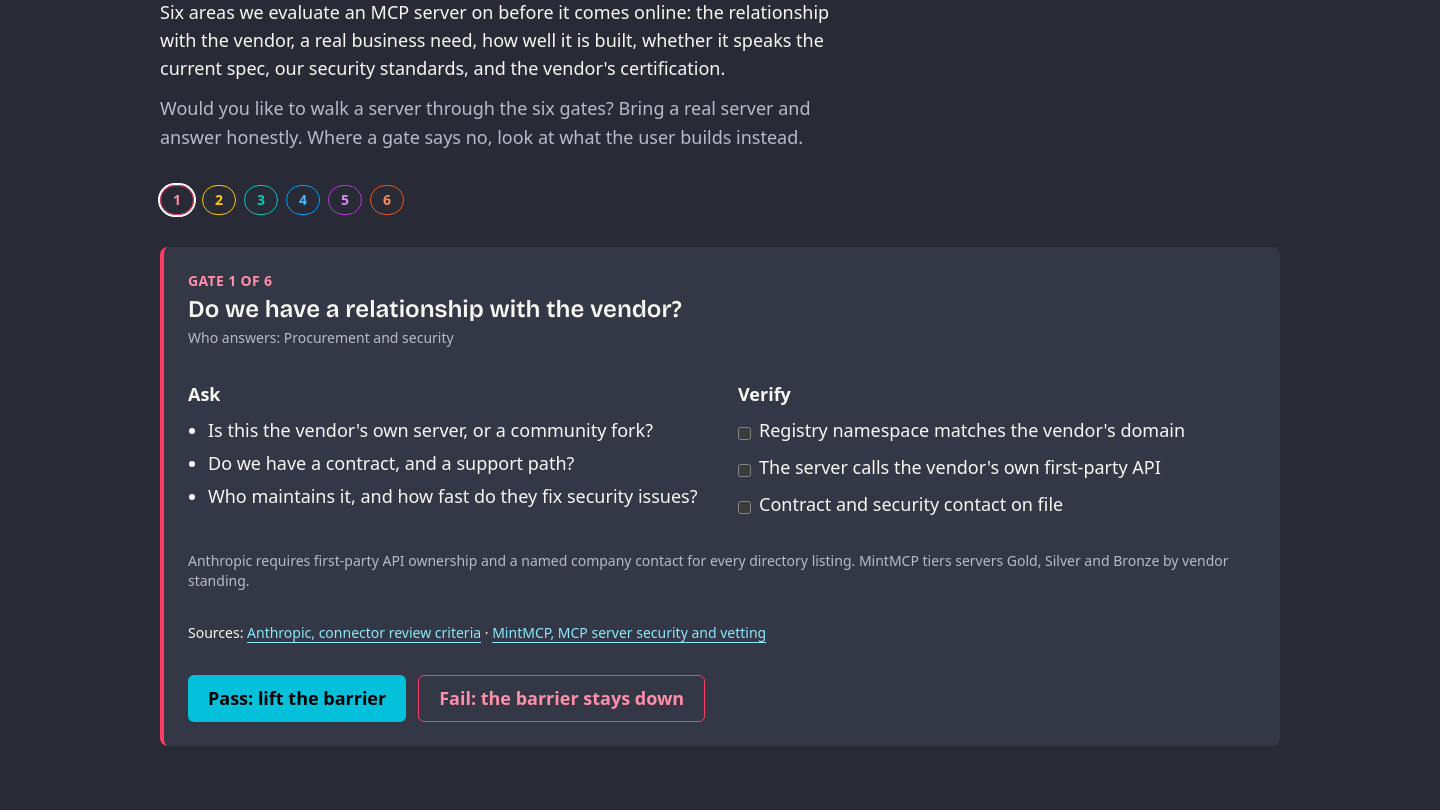
Test: the gate walk › starts at gate one and lifts the barrier on pass
(page scrolled)
Check: the text "Gate 1 of 6" is shown, box 188,271 -> 272,290
Step 1. Click the button "Pass: lift the barrier" → (297, 698), box 188,675 -> 406,722
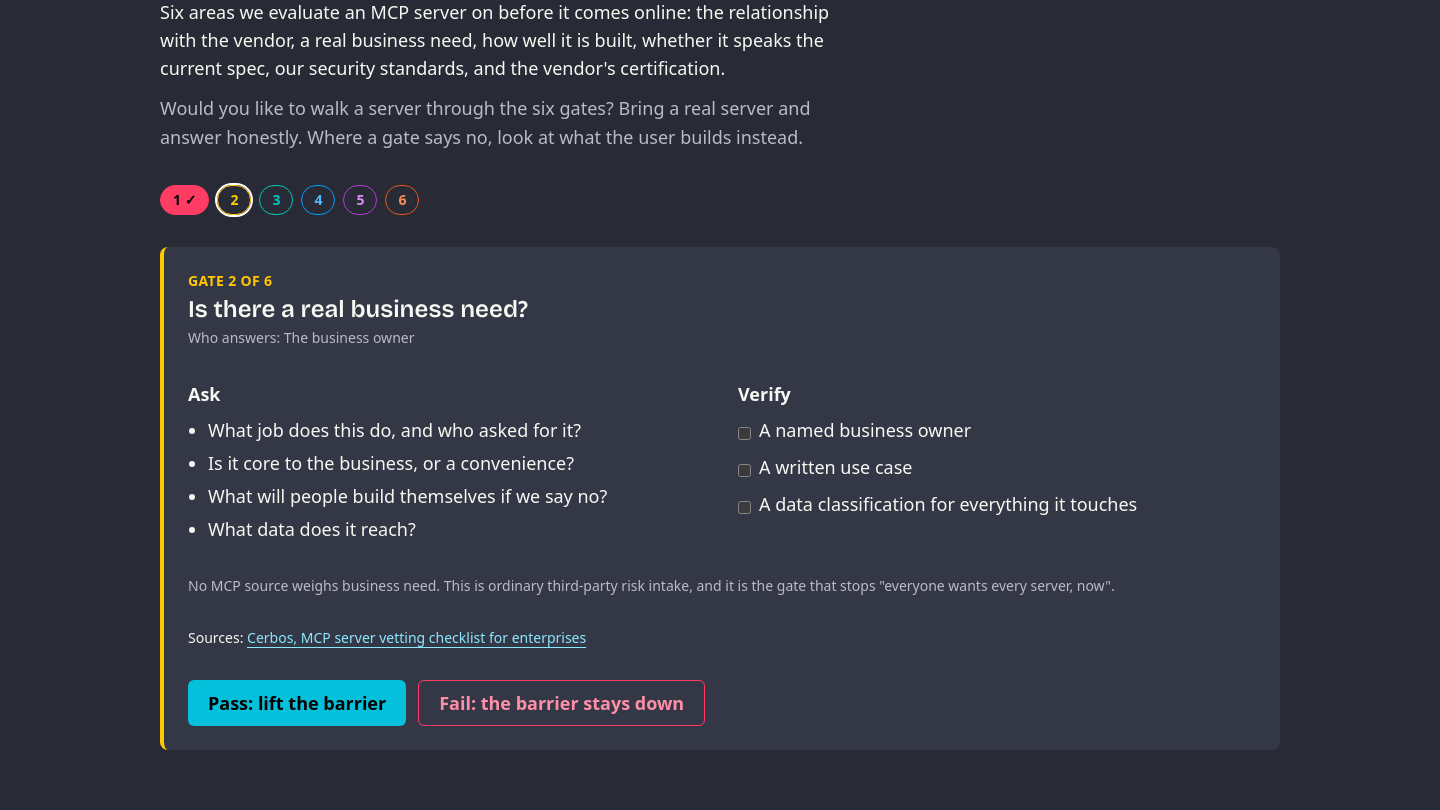
Check: the text "Gate 2 of 6" is shown, box 188,271 -> 272,290
